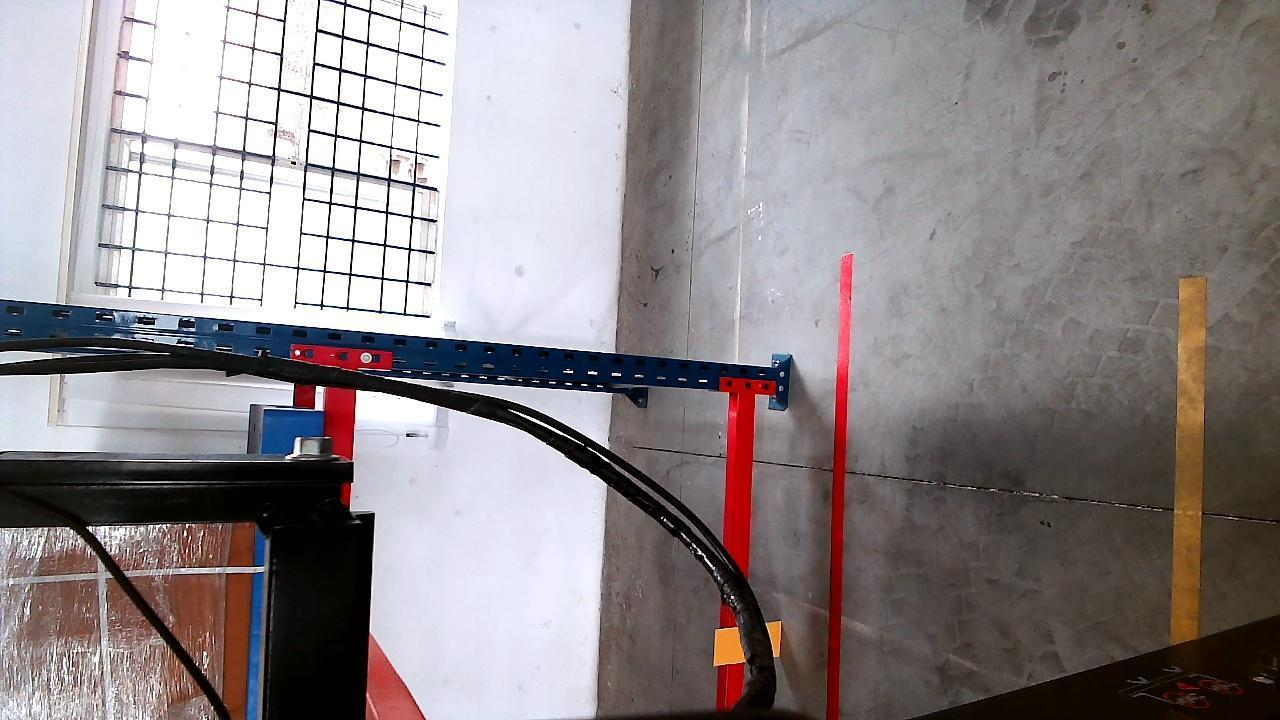h_rack: (722, 385, 758, 720)
orange_strip: (714, 624, 746, 665)
red_line: (826, 245, 853, 720)
yellow_line: (1172, 276, 1208, 635)
